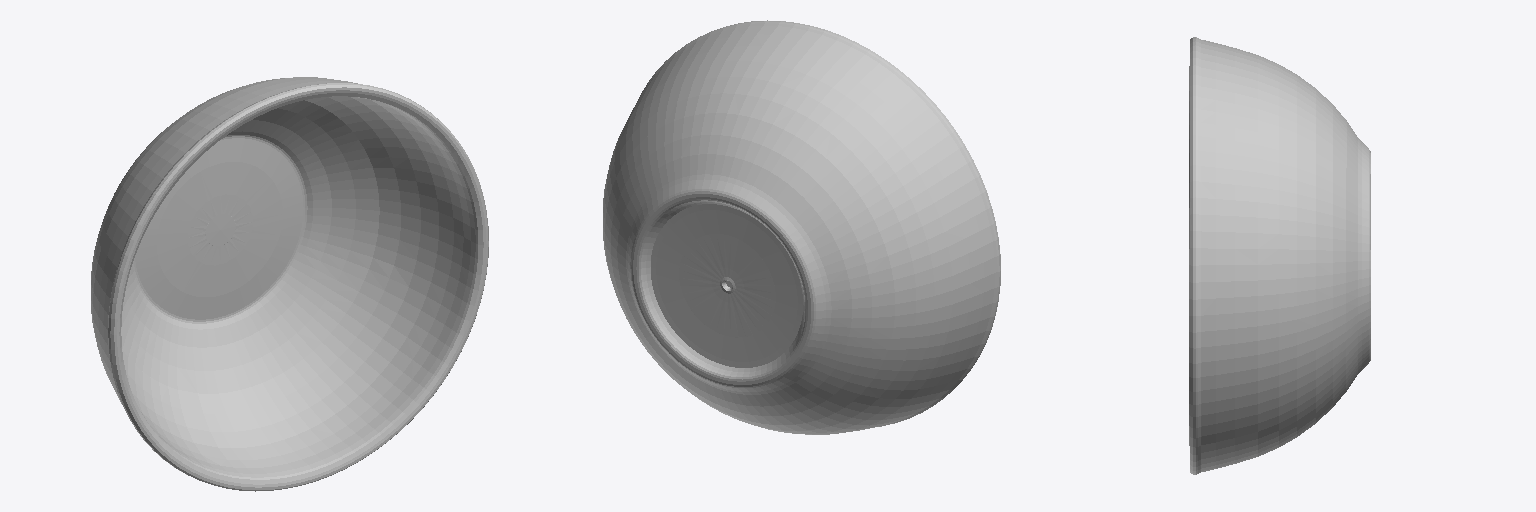
File: evo_bowl_fine_7910triangles.obj
3 views of the same model, side by side, from view 1: azimuth 30°, elevation 25°; view 2: azimuth 150°, elevation 25°; view 3: azimuth 270°, elevation 25° (orthographic).
Visible parts, largest first — view 1: grp1; view 2: grp1; view 3: grp1.
Boxes of the visible parts, box(x1,y1,x2,y2) form: grp1: box(91, 77, 488, 491); grp1: box(603, 20, 1000, 434); grp1: box(1189, 37, 1370, 474).
Bounding box in the file's own units: 0.1468 × 0.1469 × 0.0613.